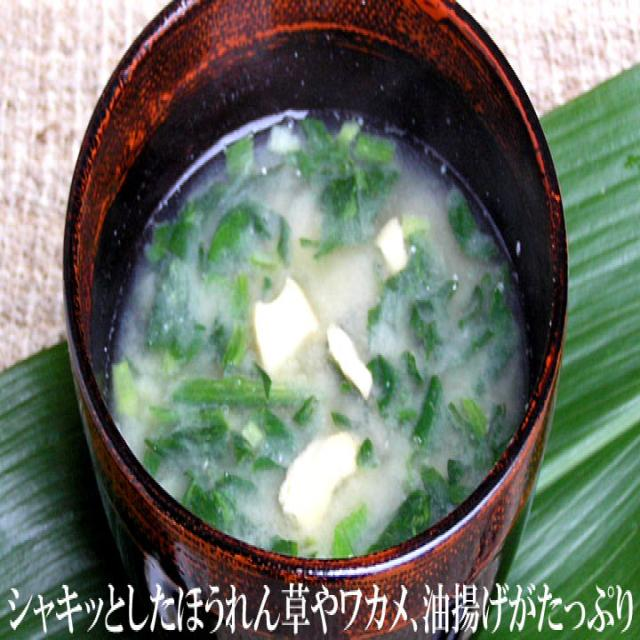汤锅炖物: (57, 0, 565, 575)
